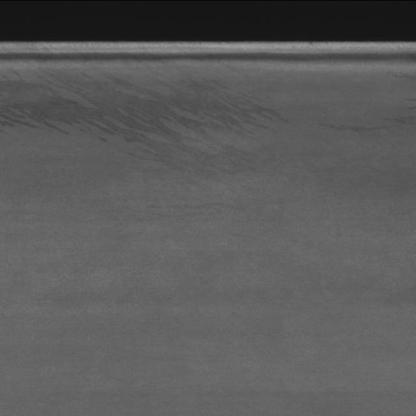water_spot: (2, 67, 287, 168)
